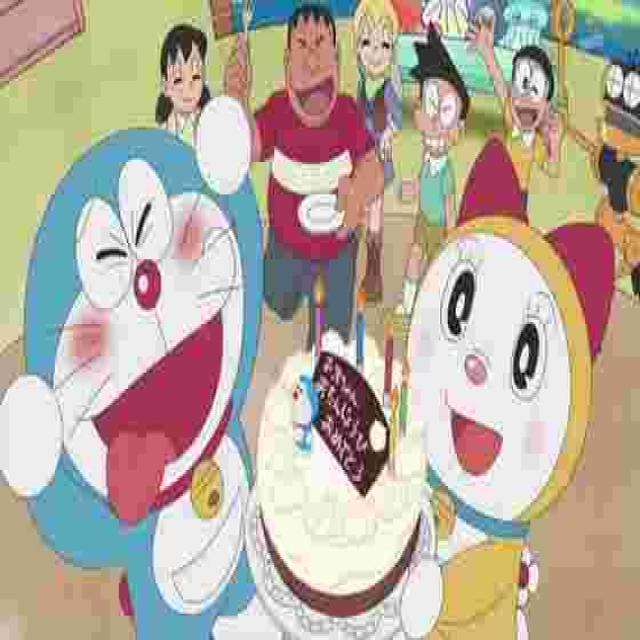doraemon: (7, 95, 282, 569)
jaian: (272, 4, 352, 144)
nobita: (492, 30, 566, 166)
shizuka: (152, 14, 221, 142)
suneo: (394, 14, 480, 182)
